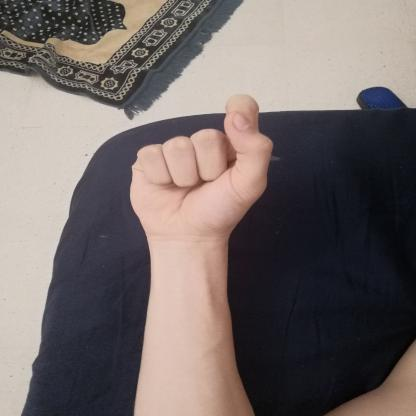FAA: (114, 79, 286, 248)
